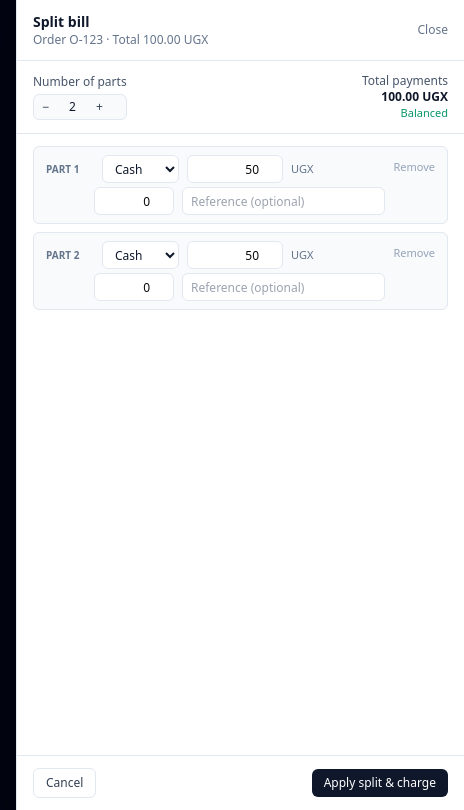
PosSplitBillDrawer › increases split count and redistributes amounts
Note: Click the + button to increase split count
Click the button "+": (99, 107) [88, 95, 111, 119]
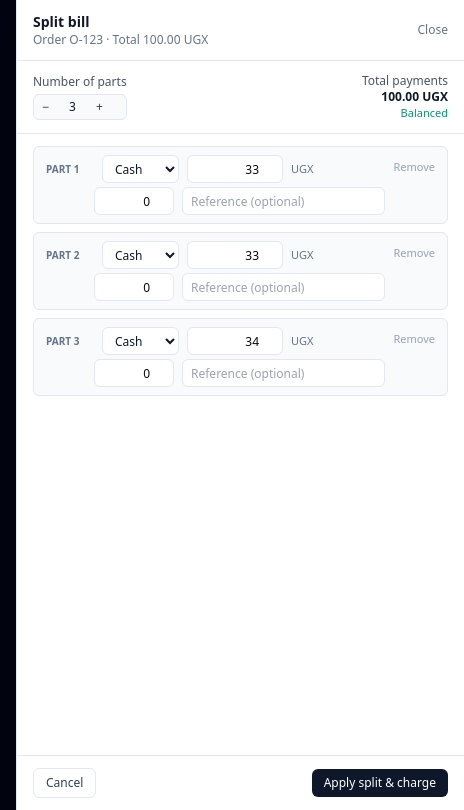
Expected: the text "3" is shown, [69, 98, 76, 115]
Result: the text "Part 1" is shown 3 times at [46, 162, 79, 176]; [46, 248, 79, 262]; [46, 334, 79, 348]
